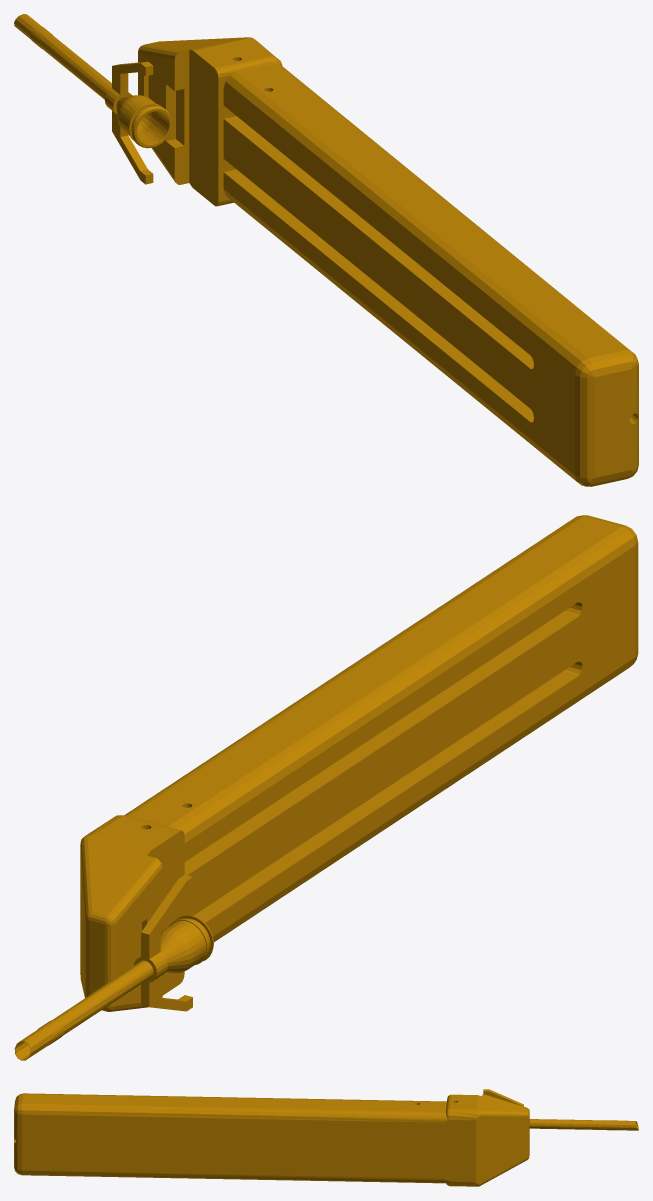
Rendered from dxxx_L2_visual_PSM1_vis_2.dae.
The picture shows the model from 3 angles, top to bottom: view 1: azimuth 30°, elevation 25°; view 2: azimuth 150°, elevation 25°; view 3: azimuth 270°, elevation 25°; orthographic projection. The views are drawn at different scales.
Parts seen in each view (by area): view 1: Node_000001D818CBC020; view 2: Node_000001D818CBC020; view 3: Node_000001D818CBC020.
Boxes of the visible parts, bbox=[...] form: Node_000001D818CBC020: bbox=[14, 14, 638, 486]; Node_000001D818CBC020: bbox=[14, 515, 638, 1060]; Node_000001D818CBC020: bbox=[14, 1089, 638, 1186].
Size of the model in its own units: 0.0773 by 0.082 by 0.6073.
